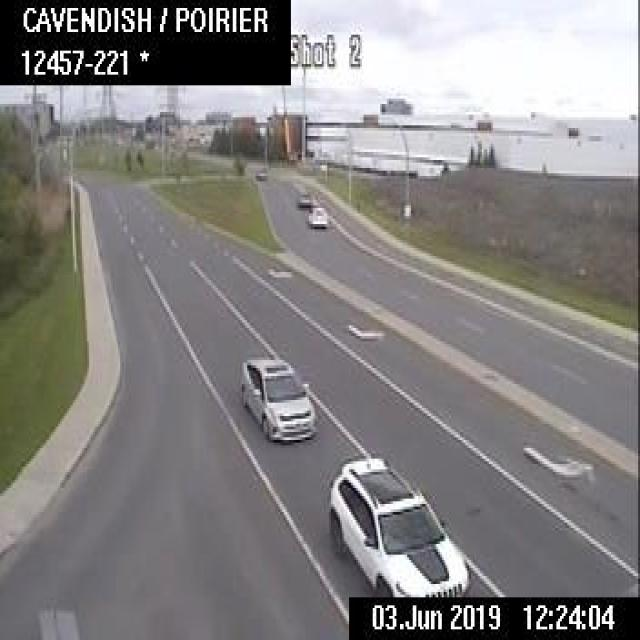vehicle: (329, 452, 468, 596), (240, 354, 316, 440), (306, 205, 327, 226), (296, 190, 312, 206), (254, 165, 266, 178)
